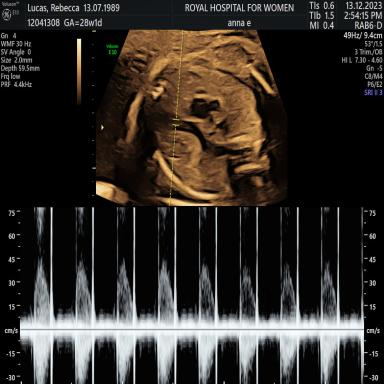Ultrasound-Waves: (24, 204, 360, 384)
